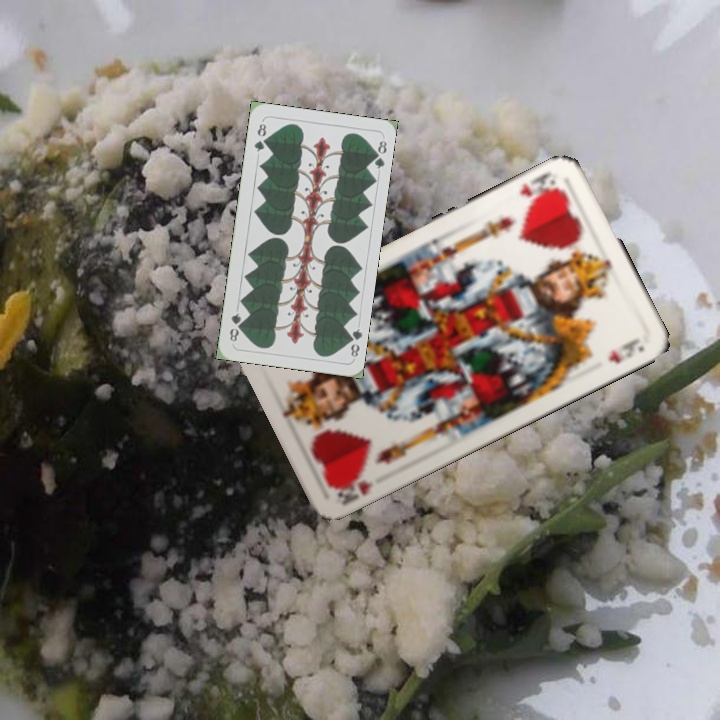G8: (343, 325, 364, 359), (250, 119, 269, 154)
HK: (327, 466, 375, 508), (516, 167, 562, 206)
